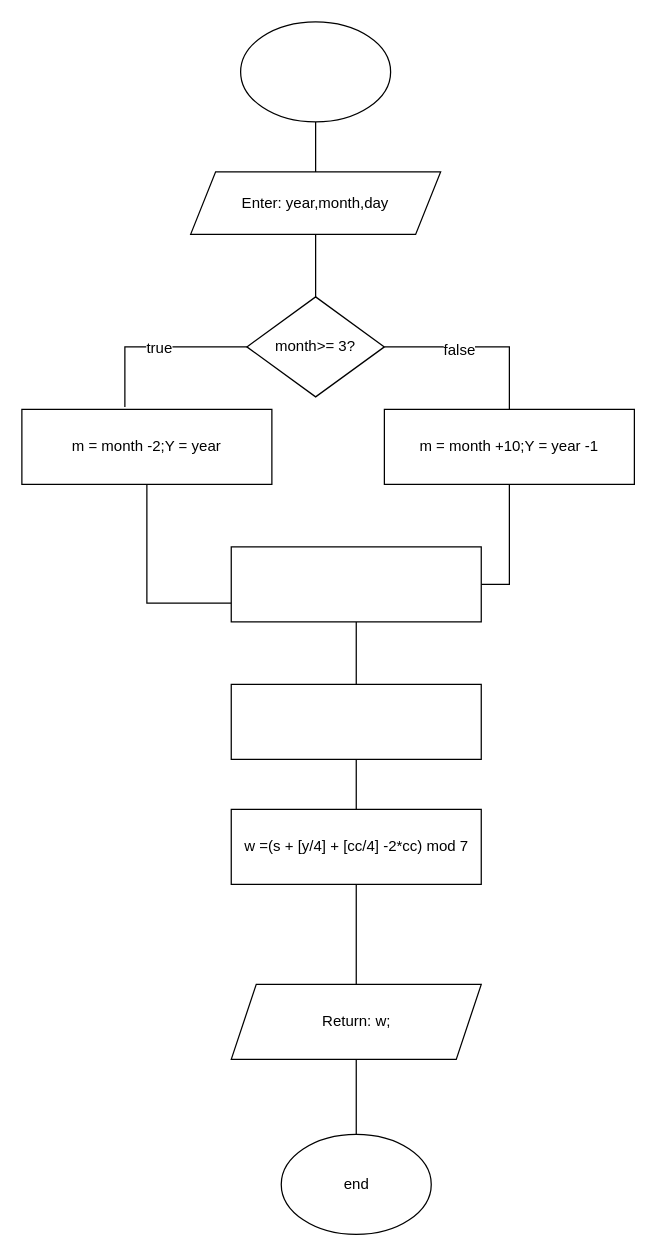
Some shapes in this 656 by 1256 pixel diagram are drawn without their labels. Here are the shapes that lost their labels. From the top down, the centre of each, then its label:
At (x=315, y=71): "start".
At (x=355, y=584): "y = Y mod 100; cc =[Y/100]".
At (x=355, y=721): "s =[2.6*m-0.2]+ day + y".
